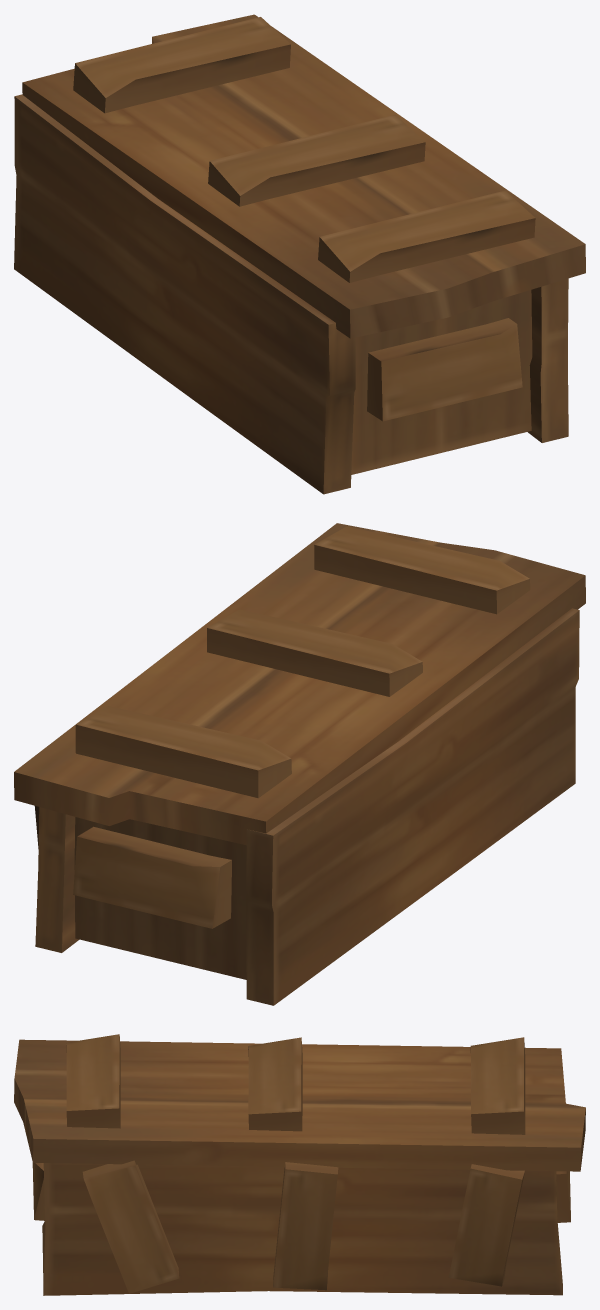
Rendered from Crate_Closed.FBX.
3 views of the same model, one above another, from view 1: azimuth 30°, elevation 25°; view 2: azimuth 150°, elevation 25°; view 3: azimuth 270°, elevation 25° (orthographic). The views are drawn at different scales.
Parts seen in each view (by area): view 1: Crate_Closed; view 2: Crate_Closed; view 3: Crate_Closed.
Part boxes in pixels (box(x1,y1,x2,y2)): Crate_Closed: box(14, 14, 585, 494); Crate_Closed: box(14, 523, 585, 1005); Crate_Closed: box(14, 1034, 585, 1295).
Size of what is drawn, in the model's own units: 84.58 by 183 by 64.3.
1 material, 1 textured.
